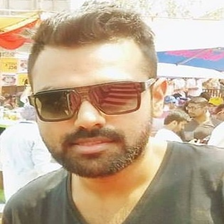no_mask: (33, 52, 154, 175)
